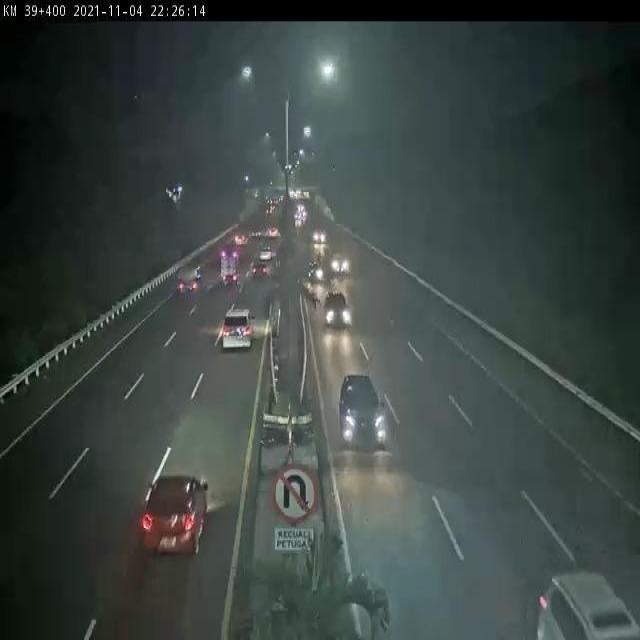Car: (533, 569, 640, 640), (140, 476, 211, 560), (338, 373, 386, 449), (221, 308, 256, 351), (323, 290, 352, 327), (307, 259, 321, 280), (251, 262, 268, 279), (312, 227, 326, 244), (258, 245, 272, 260), (234, 234, 248, 246), (268, 225, 278, 239)
Truck: (175, 263, 202, 297), (219, 250, 240, 290)
